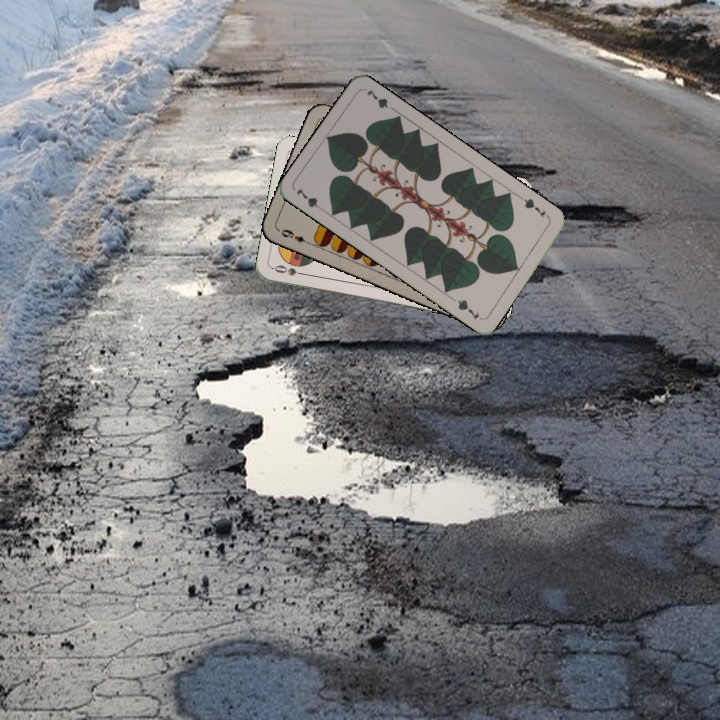E9: (277, 225, 314, 248)
G7: (292, 184, 328, 214), (517, 193, 552, 221)
SO: (270, 261, 310, 278)
